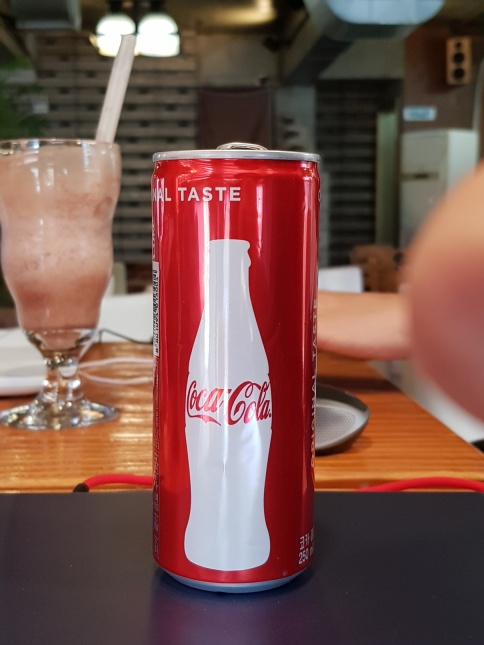Can: (147, 139, 325, 601)
